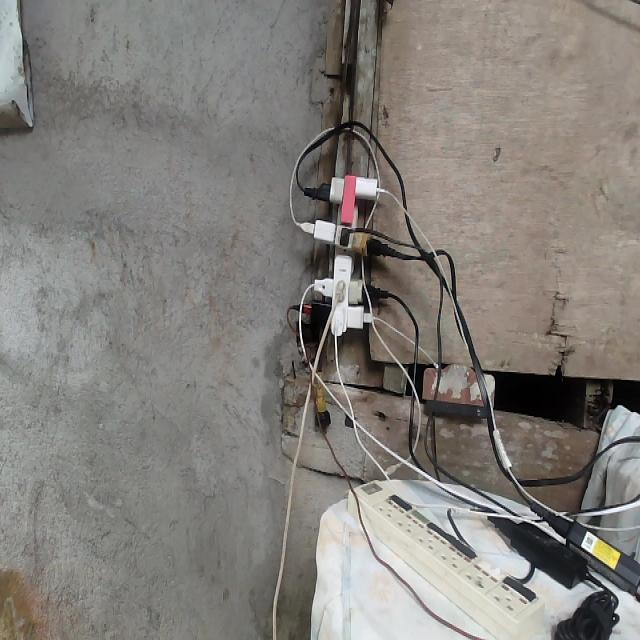-: (301, 170, 393, 338)
